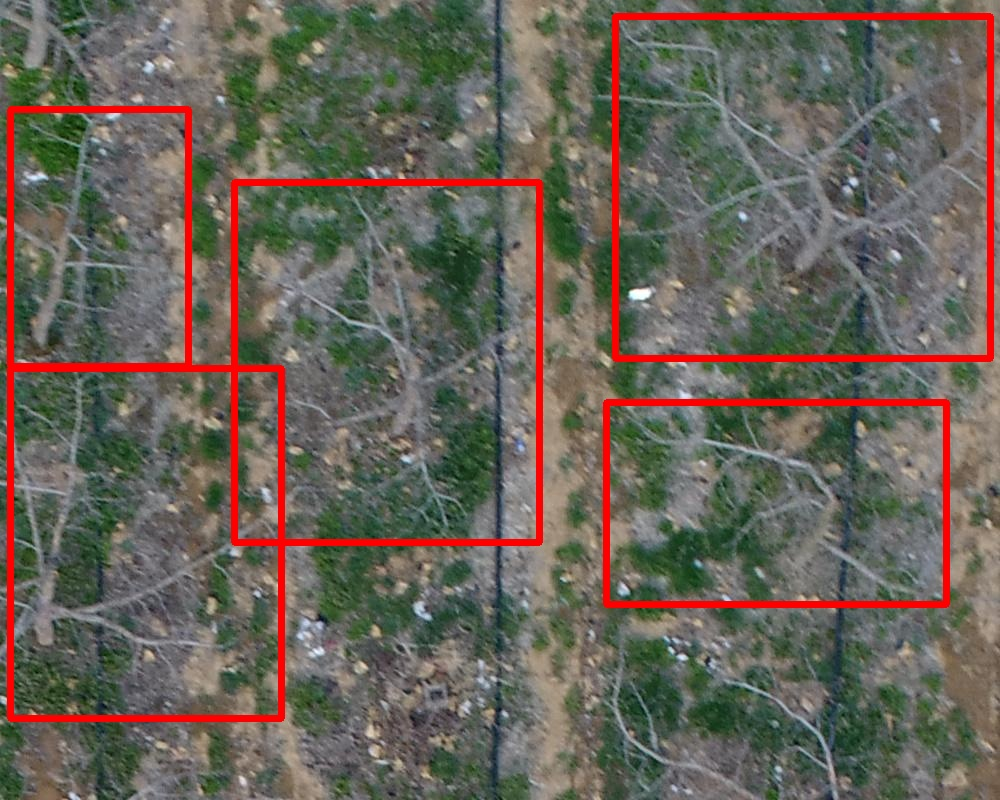apple: (615, 16, 990, 358), (234, 182, 539, 542), (10, 368, 281, 718), (606, 402, 946, 604), (10, 109, 188, 366)
